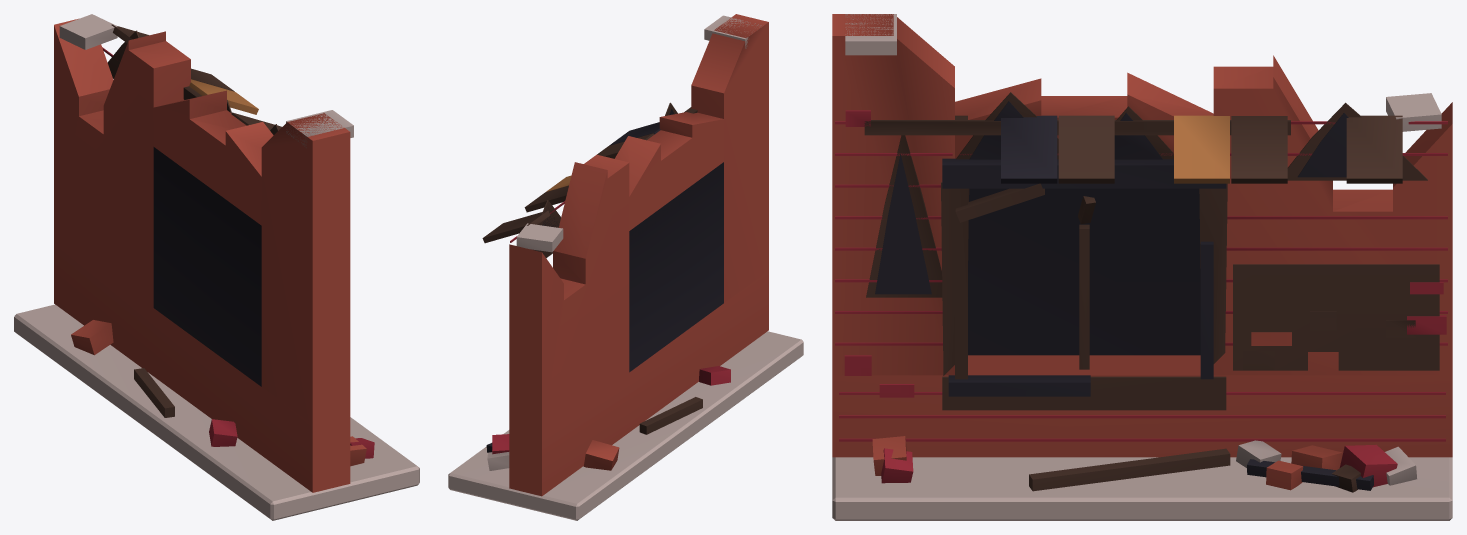
3 views of the same model, side by side, from view 1: azimuth 30°, elevation 25°; view 2: azimuth 150°, elevation 25°; view 3: azimuth 270°, elevation 25° (orthographic). The views are drawn at different scales.
Parts seen in each view (by area): view 1: body_pal_brick, body_pal_sidewalk, body_pal_uiDark, body_pal_leather, body_pal_redDark, body_pal_woodWarm; view 2: body_pal_brick, body_pal_sidewalk, body_pal_uiDark, body_pal_leather, body_pal_redDark; view 3: body_pal_brick, body_pal_leather, body_pal_uiDark, body_pal_sidewalk, body_pal_redDark, body_pal_woodWarm.
Part boxes in pixels (bbox=[...]): body_pal_brick: bbox=[54, 18, 366, 492]; body_pal_sidewalk: bbox=[14, 14, 419, 520]; body_pal_uiDark: bbox=[117, 69, 261, 386]; body_pal_leather: bbox=[107, 24, 281, 417]; body_pal_redDark: bbox=[102, 47, 374, 458]; body_pal_woodWarm: bbox=[189, 79, 258, 114]; body_pal_brick: bbox=[509, 14, 768, 496]; body_pal_sidewalk: bbox=[448, 15, 803, 520]; body_pal_uiDark: bbox=[486, 109, 723, 452]; body_pal_leather: bbox=[482, 102, 702, 434]; body_pal_redDark: bbox=[492, 201, 730, 454]; body_pal_brick: bbox=[832, 14, 1452, 490]; body_pal_leather: bbox=[864, 92, 1439, 492]; body_pal_uiDark: bbox=[875, 101, 1373, 490]; body_pal_sidewalk: bbox=[832, 14, 1452, 520]; body_pal_redDark: bbox=[835, 110, 1447, 487]; body_pal_woodWarm: bbox=[1174, 115, 1229, 183].
Bounding box in the file's own units: 1.6 × 3.8 × 4.8.
